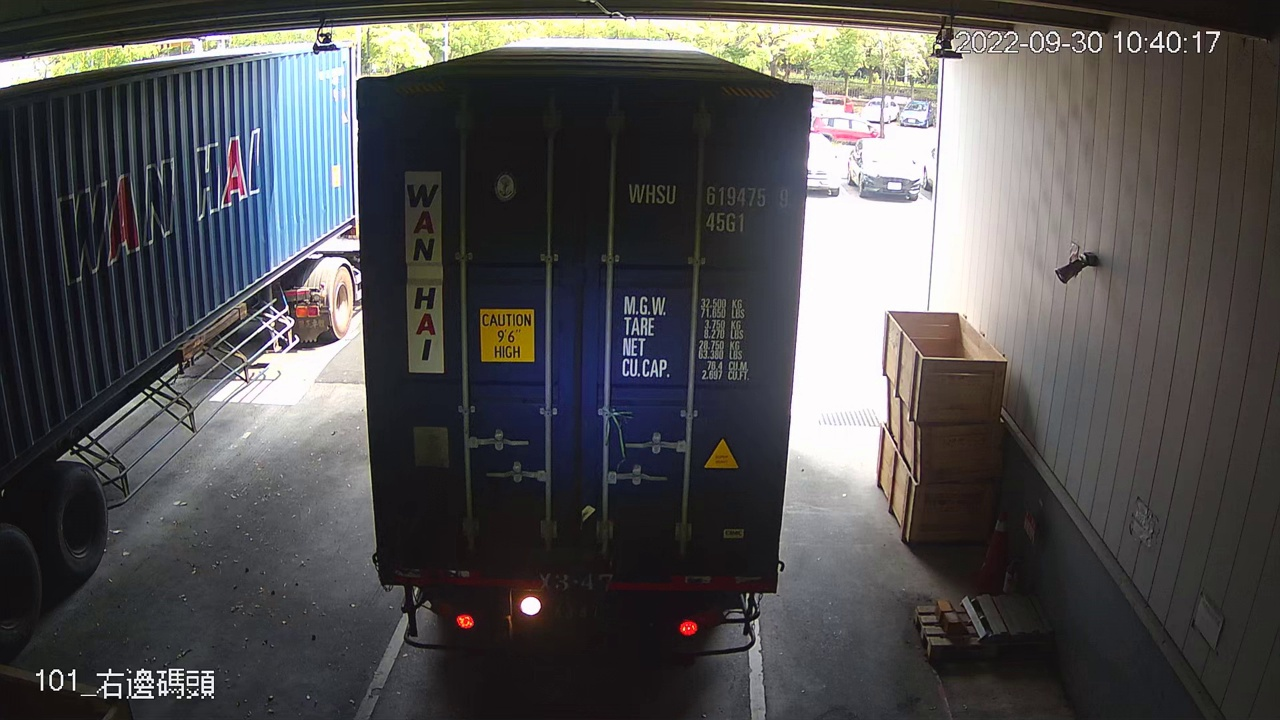container: (623, 175, 795, 237)
